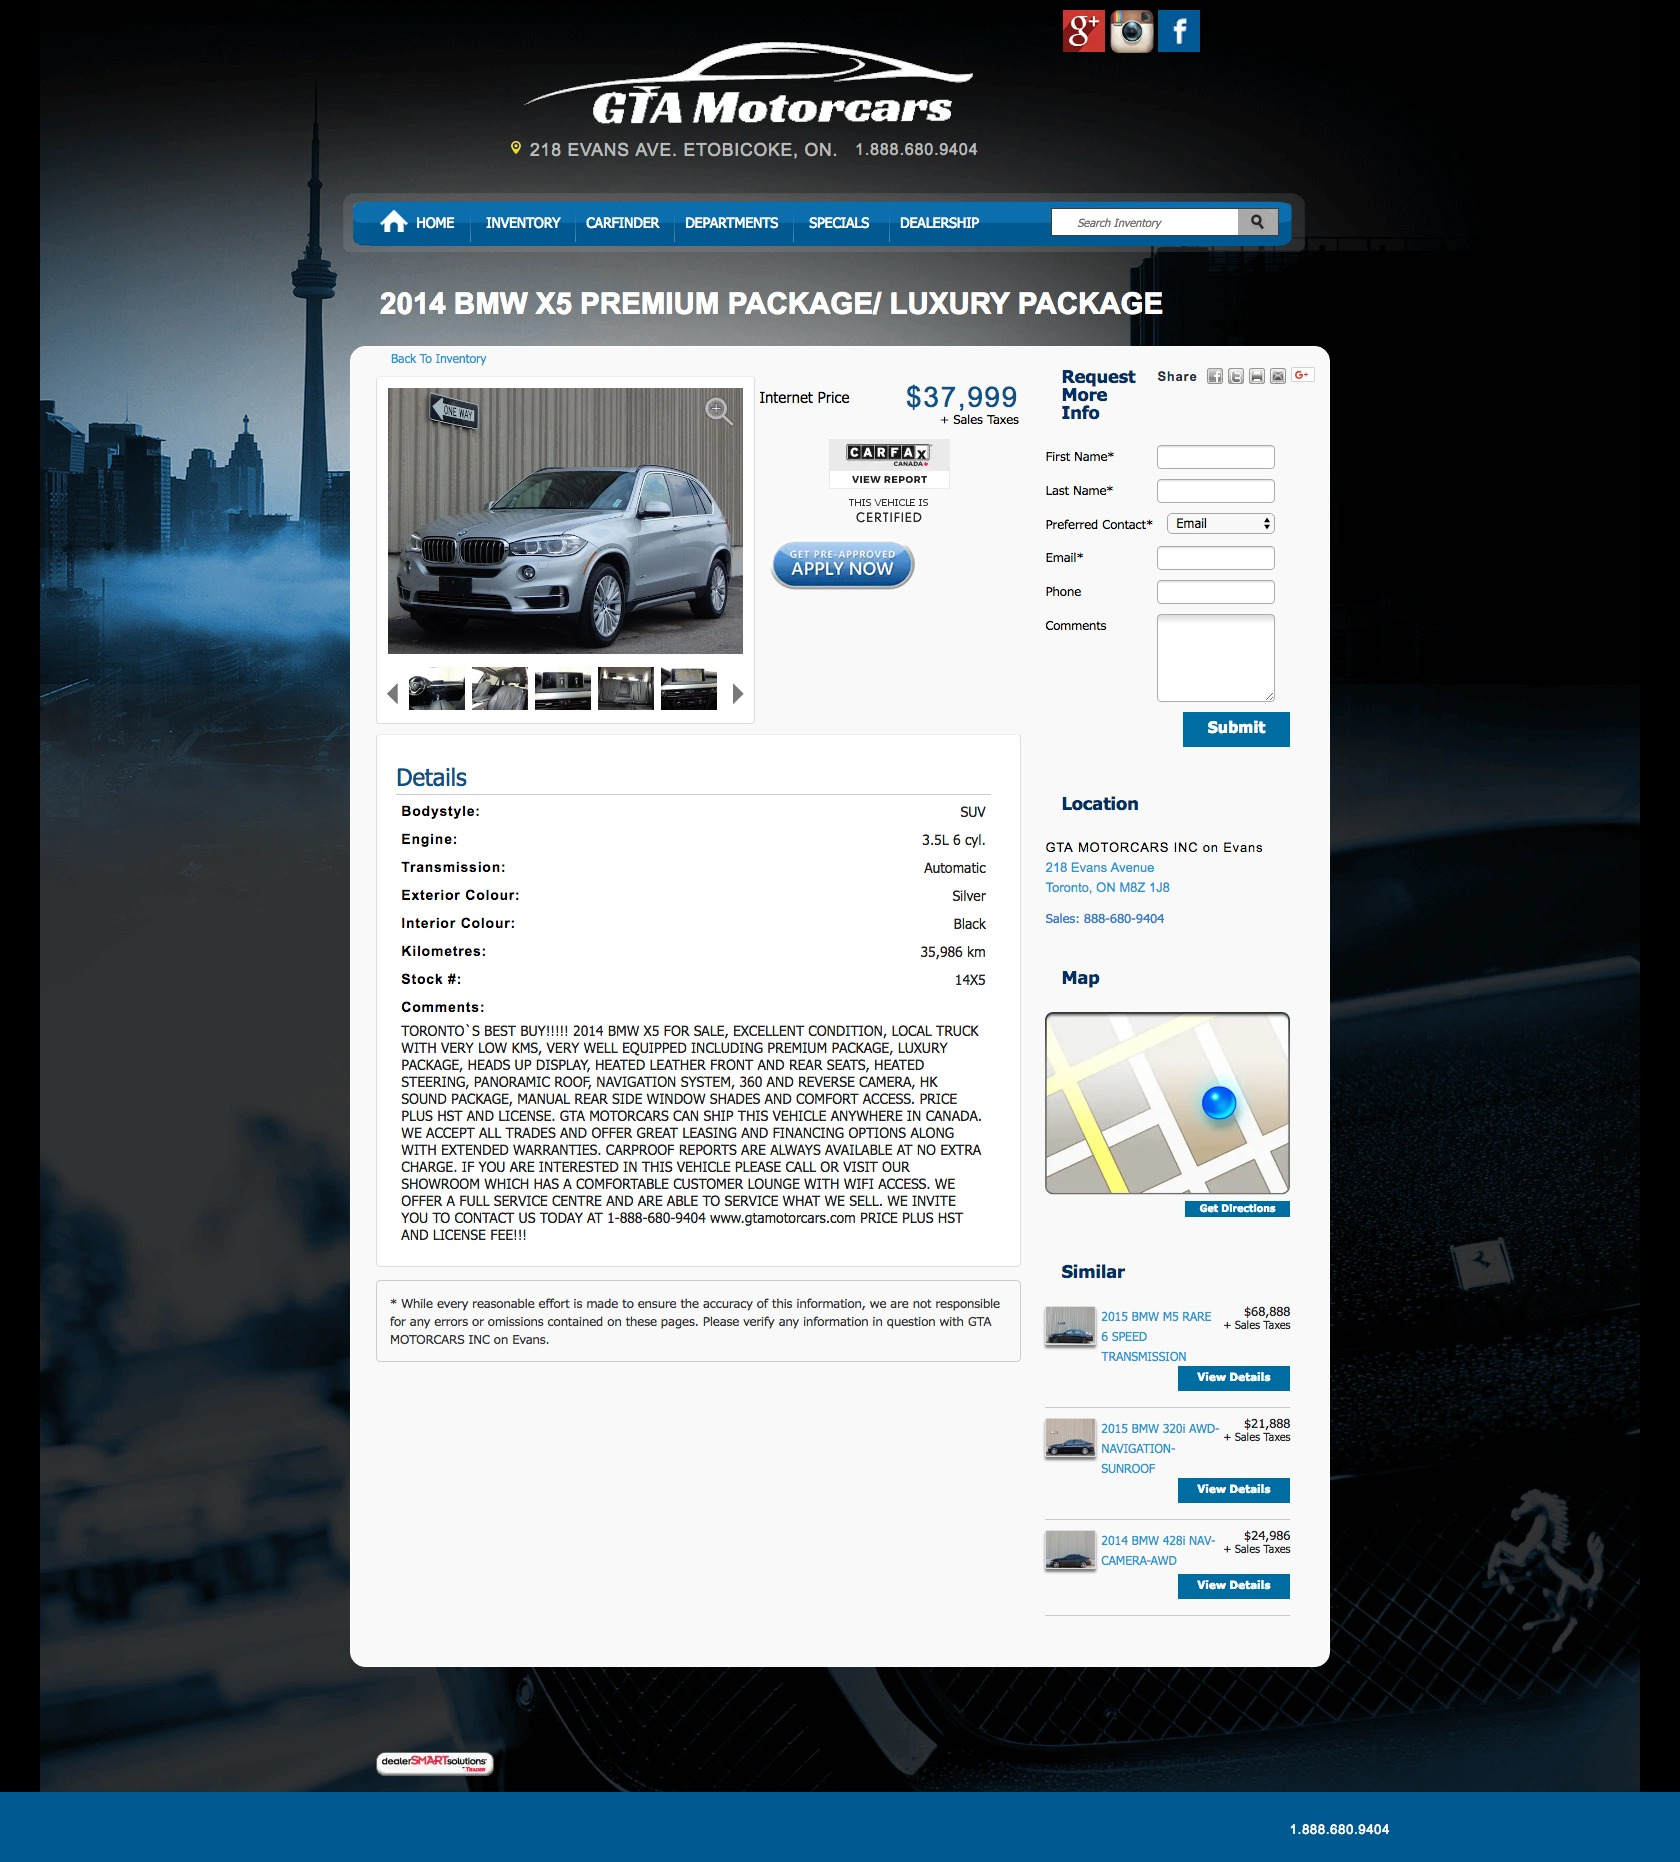car: (733, 683, 744, 706)
